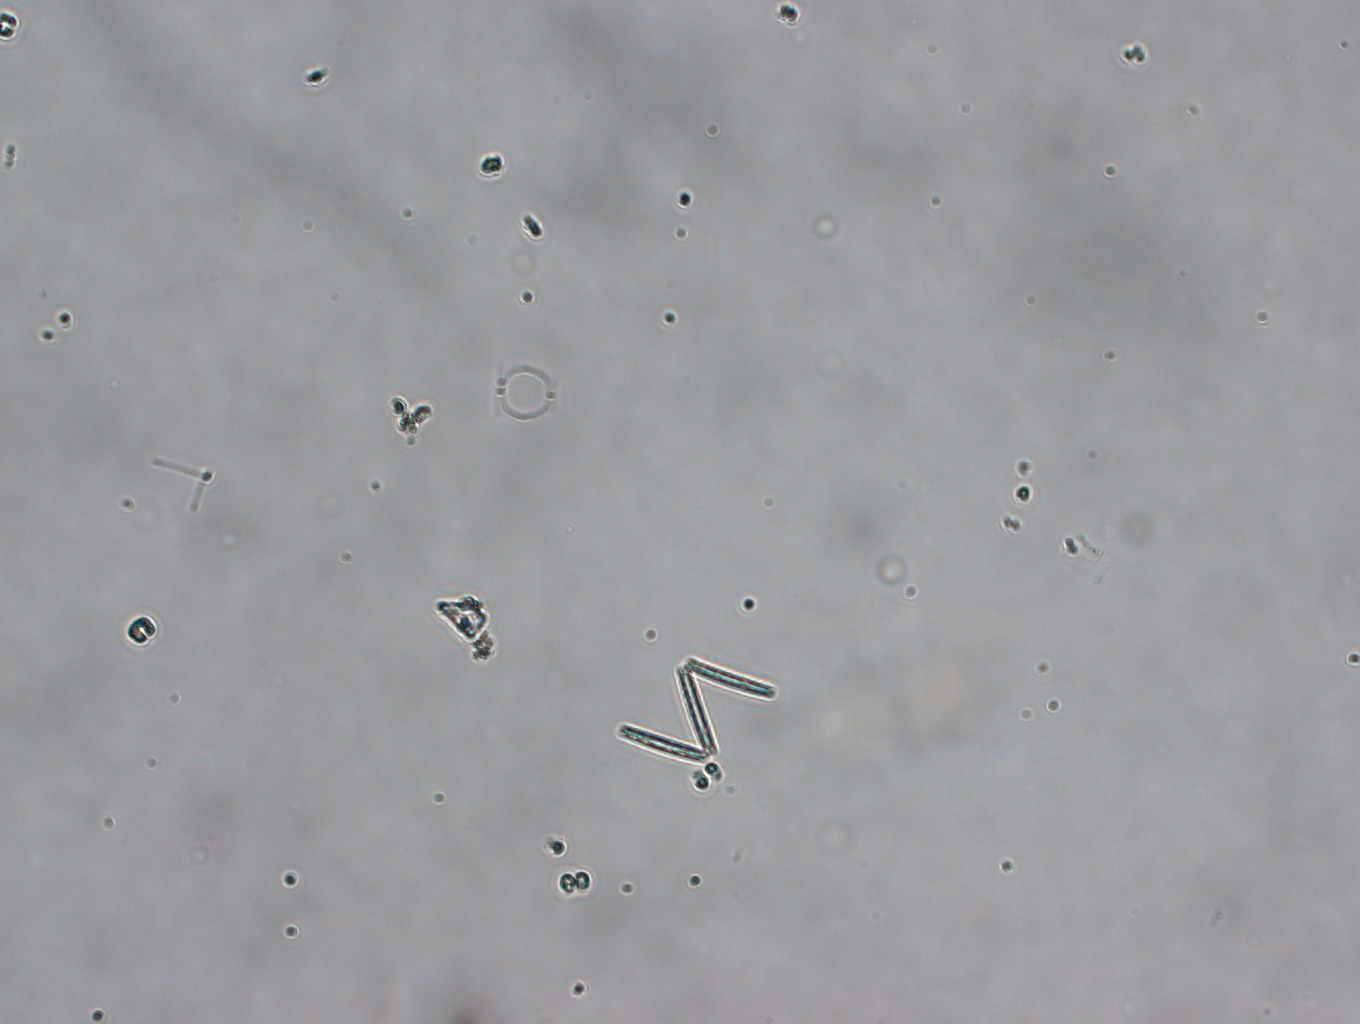thalassionema nitzschioides: (611, 650, 781, 764)
